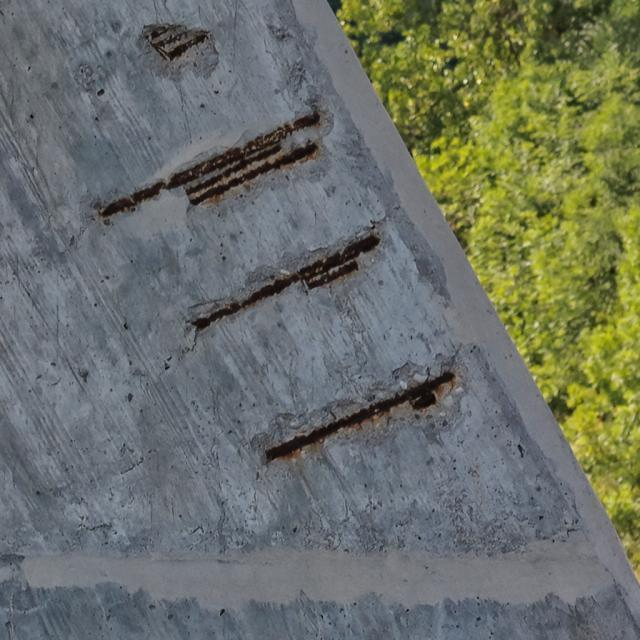D0w0: (270, 374, 453, 459), (186, 143, 317, 204)
